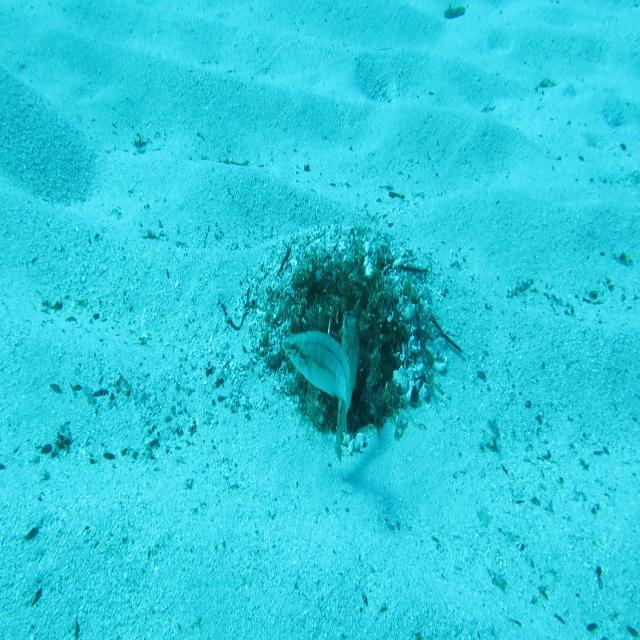FAN: (333, 309, 361, 467)
core_nest: (318, 275, 362, 302)
female: (279, 327, 357, 448)
nest: (241, 202, 455, 456)
vegetation: (444, 5, 464, 20)
